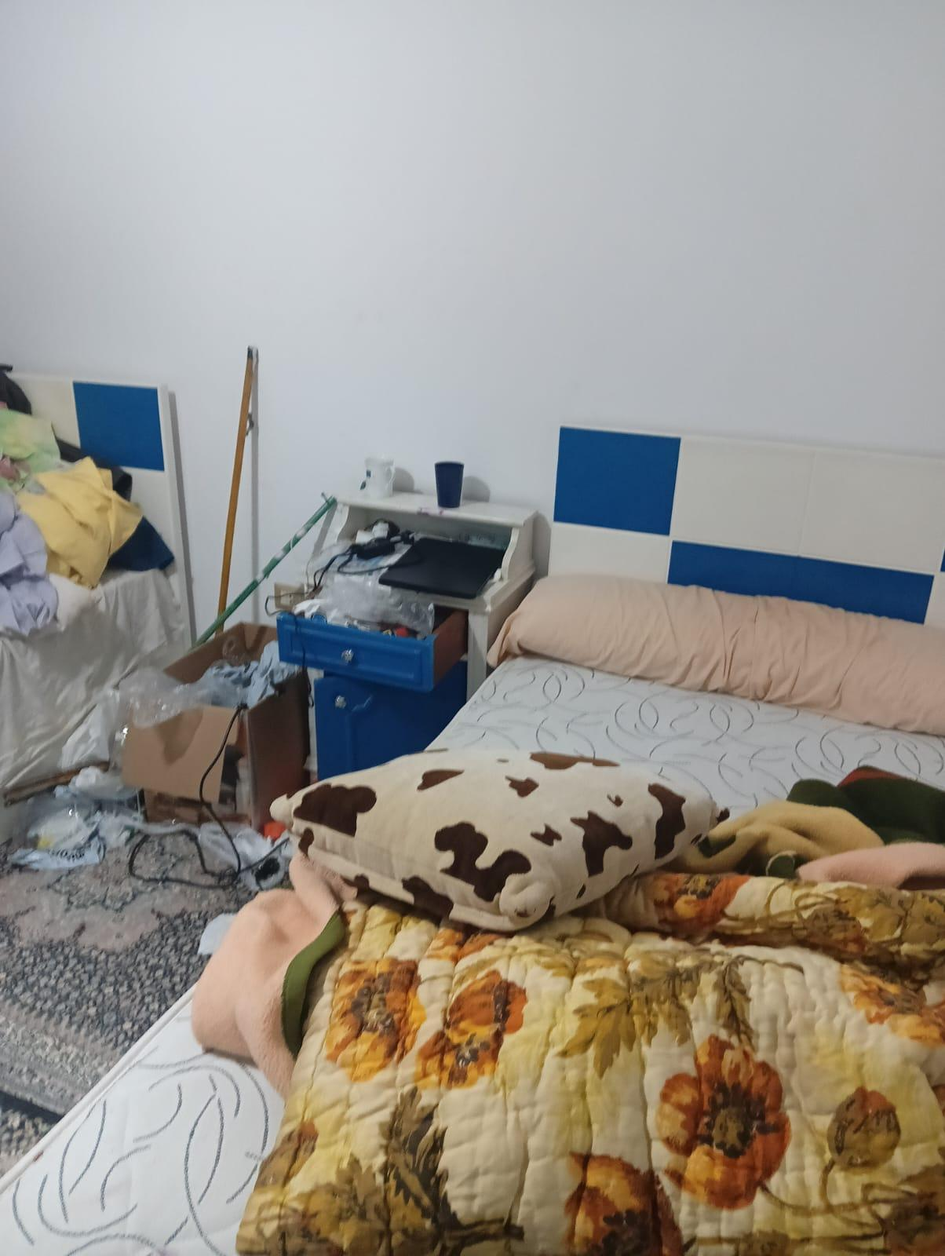cup: (361, 457, 394, 498), (435, 462, 463, 508)
